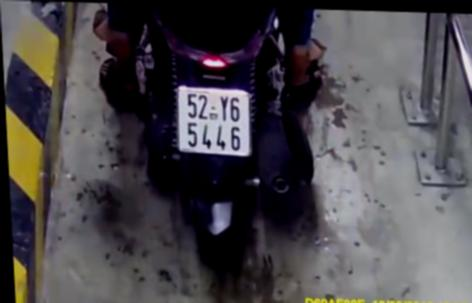License_Plate: (168, 83, 268, 164)
